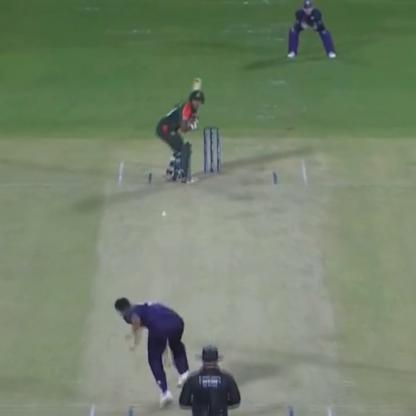ball: (160, 209, 168, 219)
bat: (187, 71, 207, 128)
pitch: (88, 145, 338, 416)
